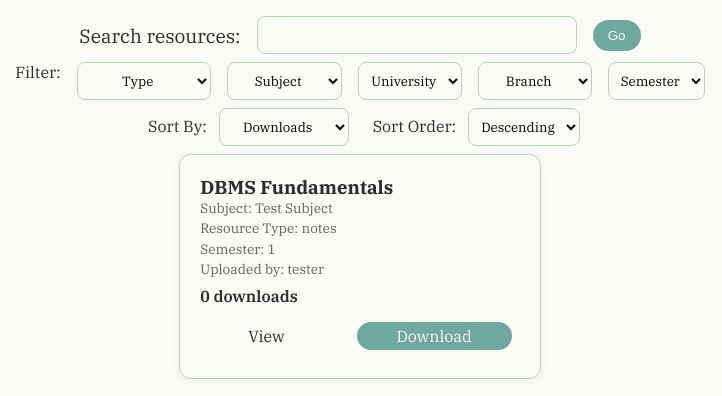
it: Browse › shows a message when user's search query yields no results
This screenshot has width=722, height=396.
Check: the heading "DBMS Fundamentals" is shown, box [200,175,393,199]
Type "zzz" into the field labelled "Search resources:" at (417, 35), box [257,16,577,54]
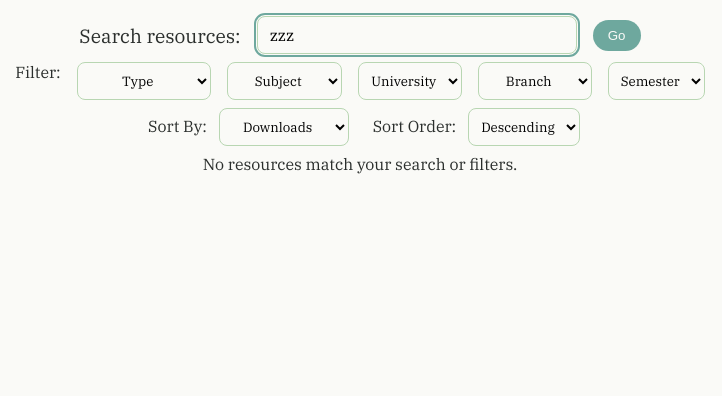
Check: the heading "DBMS Fundamentals" is gone
Check: the text "No resources match your search or filters." is shown, box [203,154,517,174]
